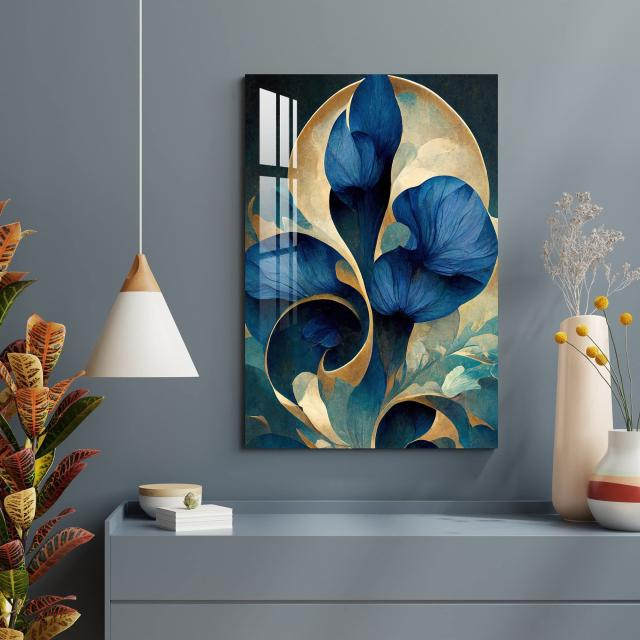painting: (243, 74, 499, 448)
